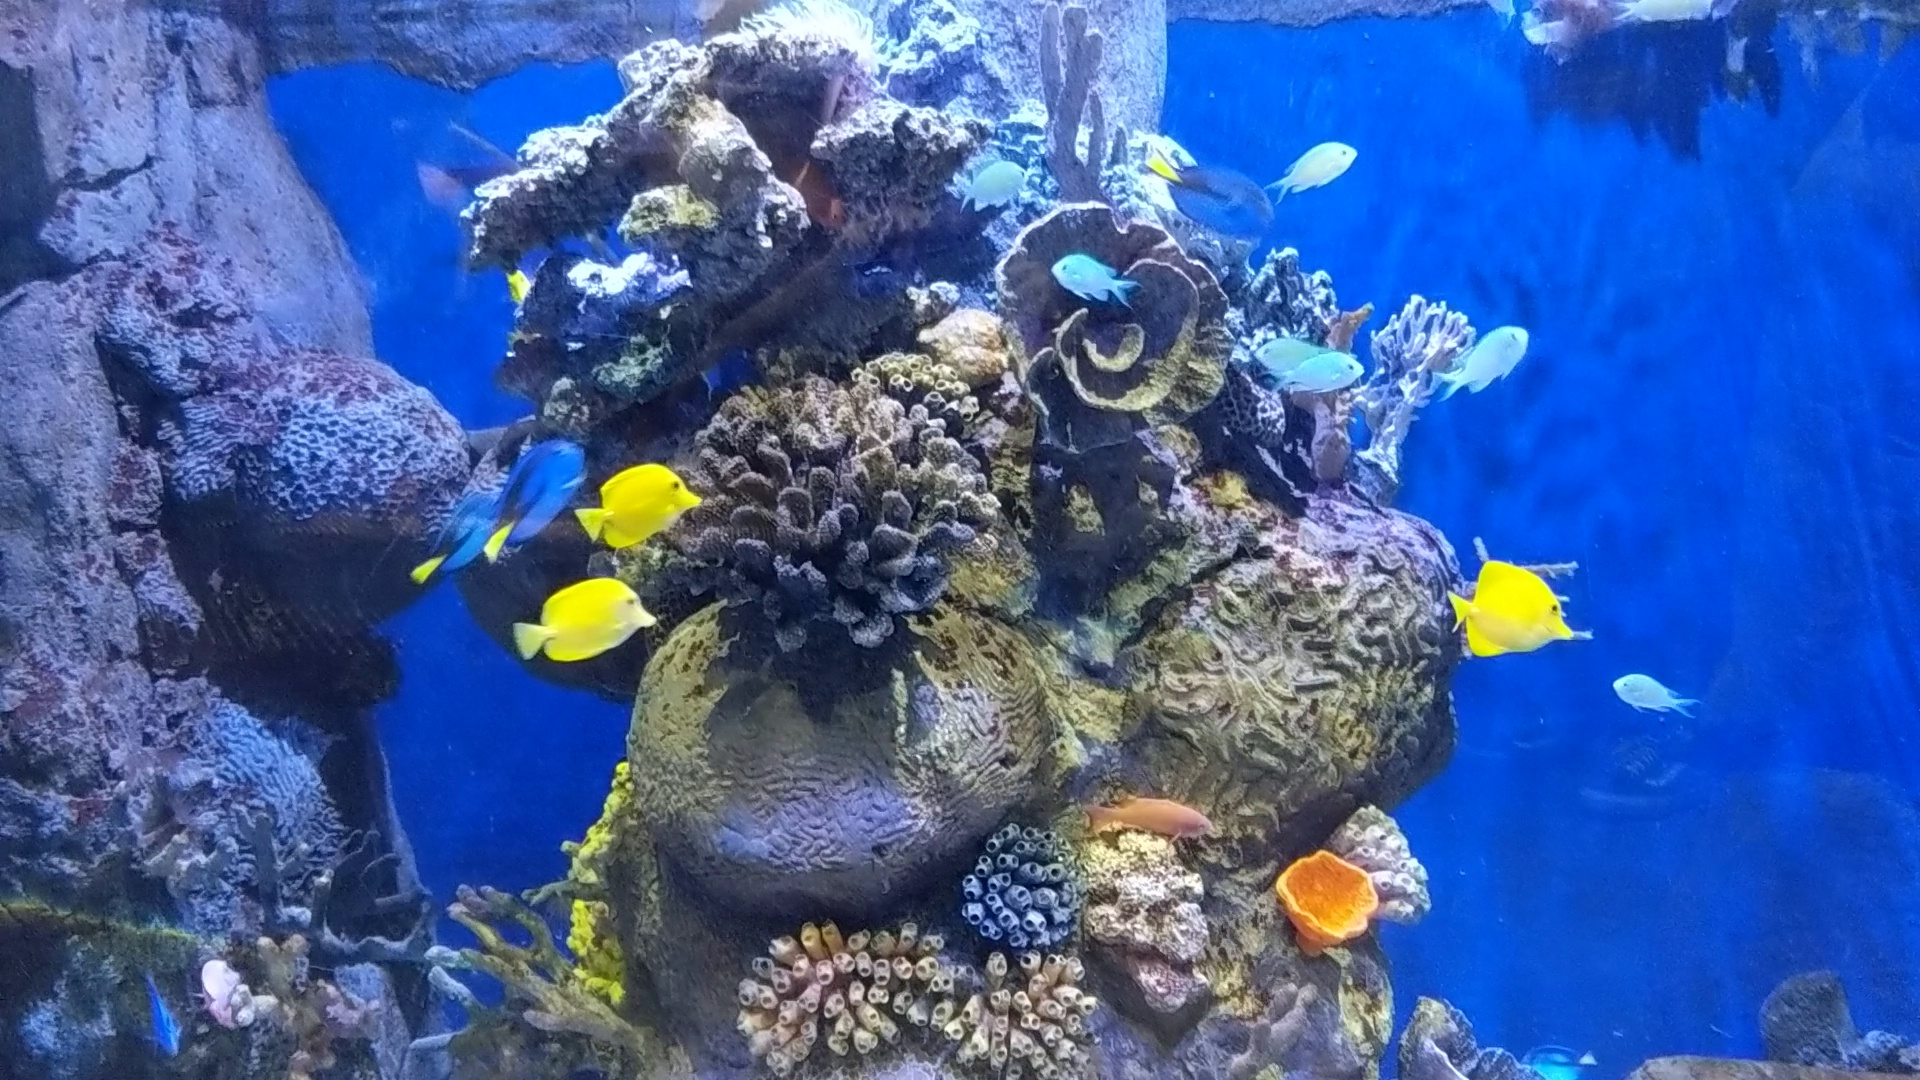blue tang surgeonfish: (483, 434, 593, 570), (1139, 146, 1280, 233), (406, 487, 512, 585), (133, 957, 187, 1062), (1514, 1040, 1606, 1080)
damselfish: (1433, 322, 1530, 401), (1267, 135, 1361, 203), (1048, 251, 1142, 313), (1244, 330, 1353, 382), (1605, 666, 1704, 721), (1604, 0, 1746, 34), (1267, 351, 1366, 396), (949, 162, 1033, 214)
saddle butterfly fish: (1444, 551, 1576, 659), (510, 578, 663, 666), (572, 463, 703, 551), (498, 262, 535, 320)
